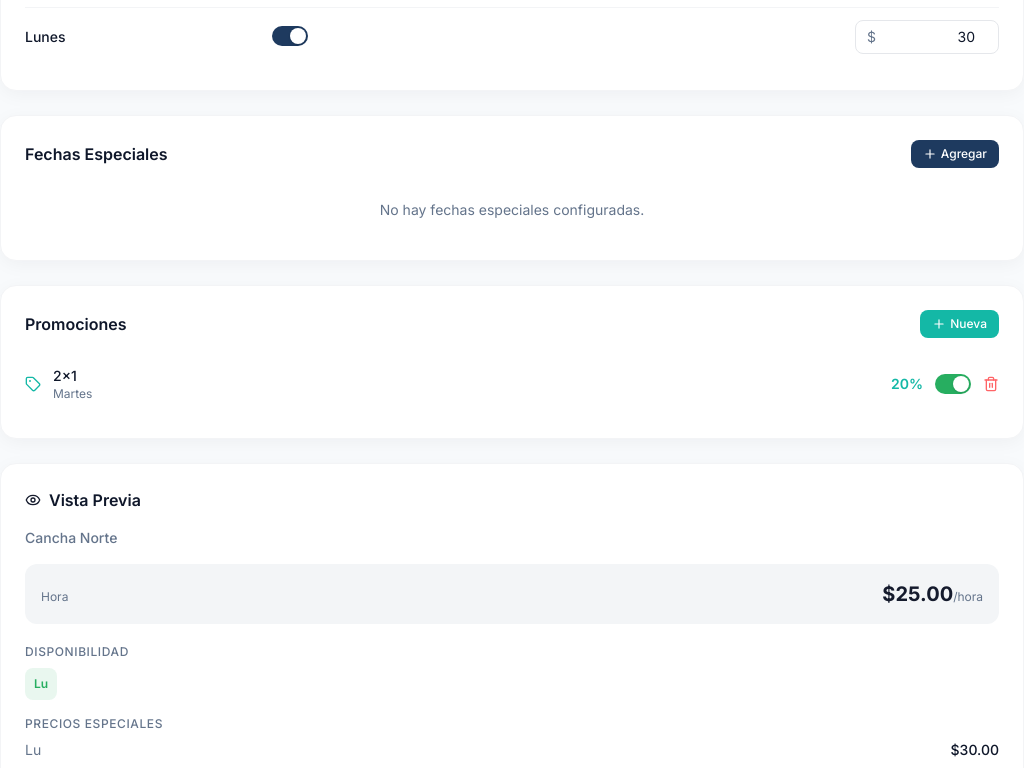
Test: fechas especiales y promociones › muestra el error del backend al alternar una promoción
(page scrolled)
Click the 4th button.
click(953, 384)  # box [935,374,971,394]
(page scrolled)
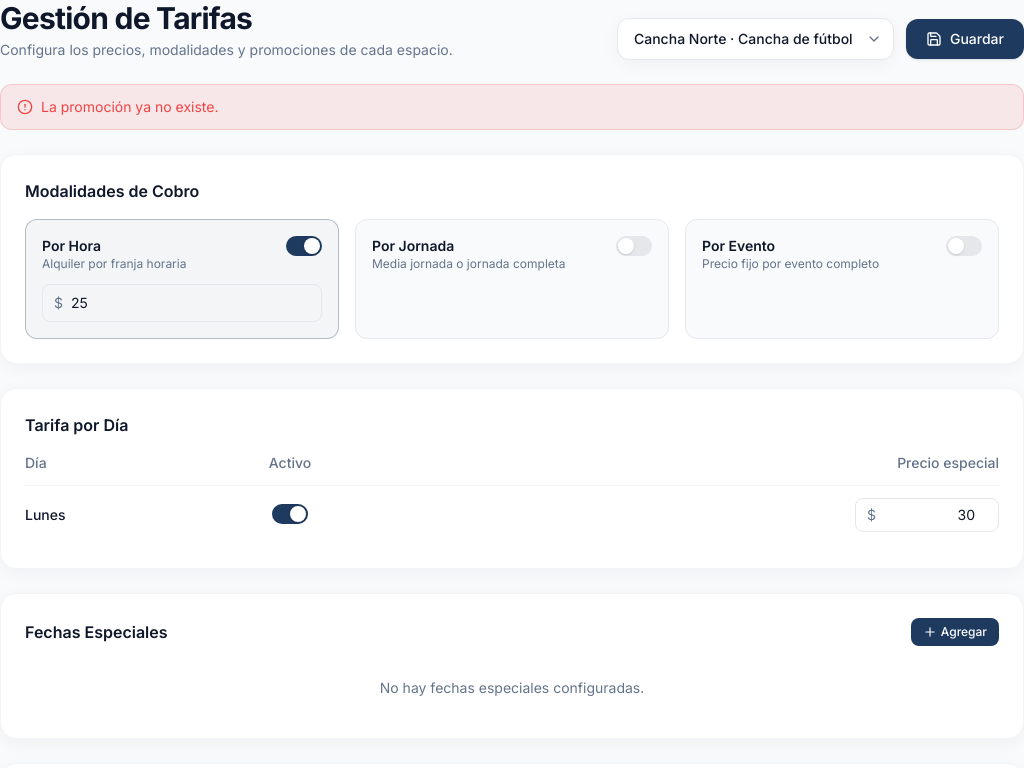
Now the text "La promoción ya no existe." is shown, box [41,97,218,117]
